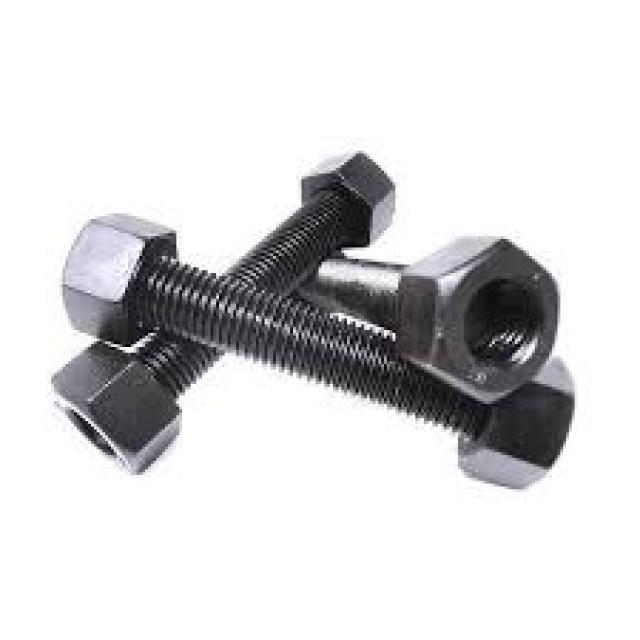Turning: (31, 130, 577, 524)
